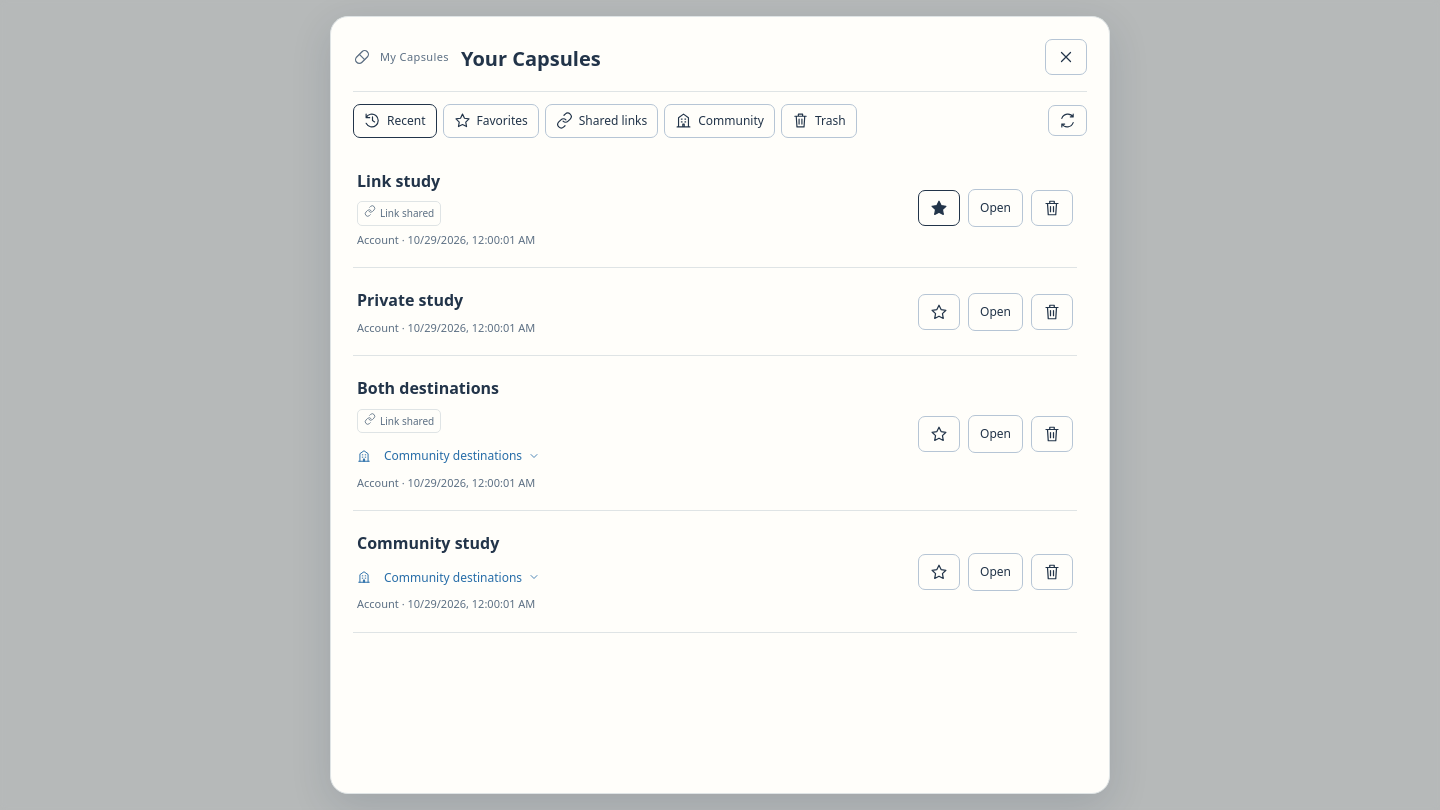
Test: finds favorite, link-shared and community-listed Capsules independently without exposing link capabilities
This screenshot has width=1440, height=810.
Expected: the heading "Both destinations" is shown, [357, 377, 499, 399]
Expected: the text "Link shared" below "Link study" is shown, [380, 206, 434, 220]
Click the button "Shared links": (601, 121) [545, 104, 658, 138]
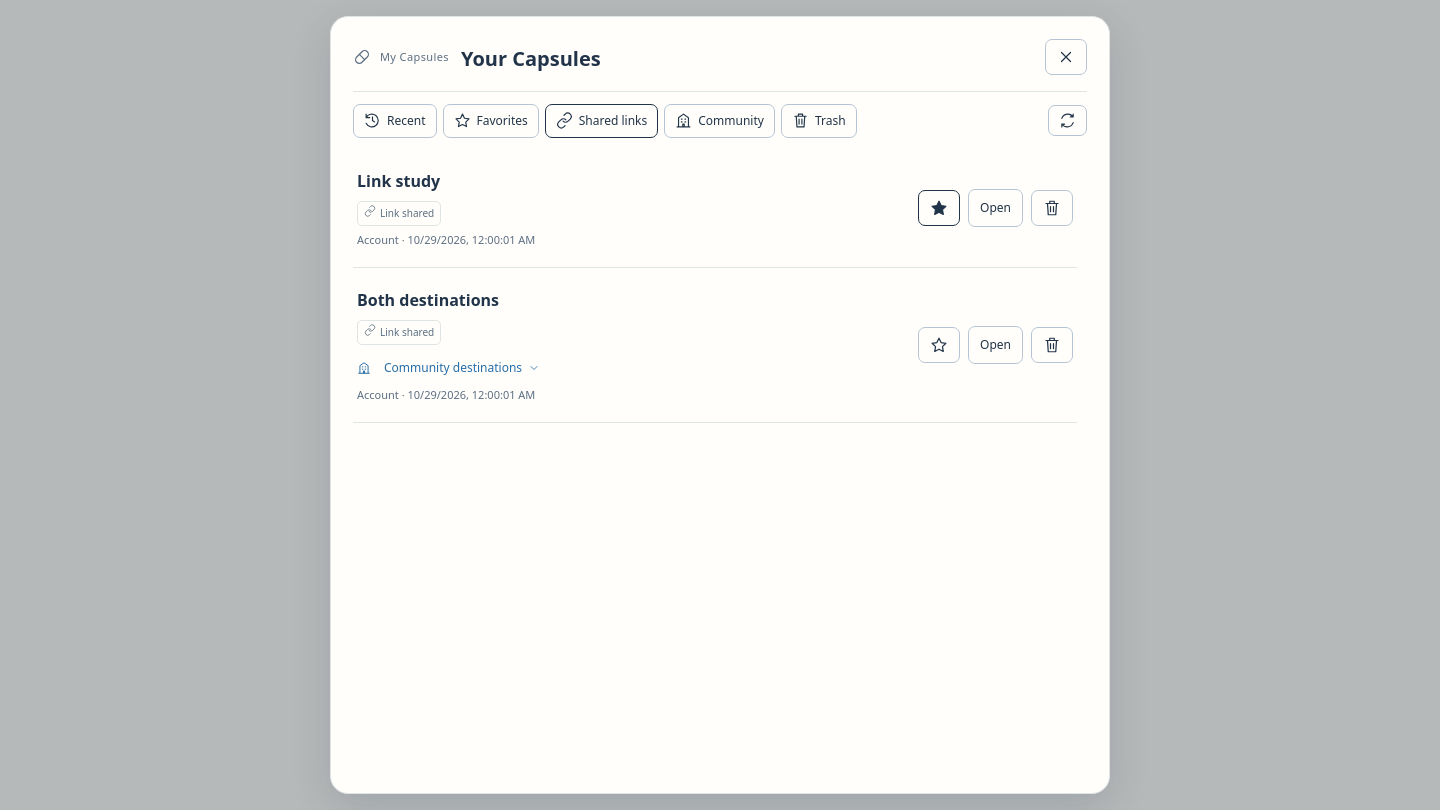
Expected: the number of list items is 2, [353, 150, 1077, 268]; [353, 269, 1077, 423]
Expected: the heading "Community study" is gone
Click the button "Community": (720, 121) [664, 104, 775, 138]
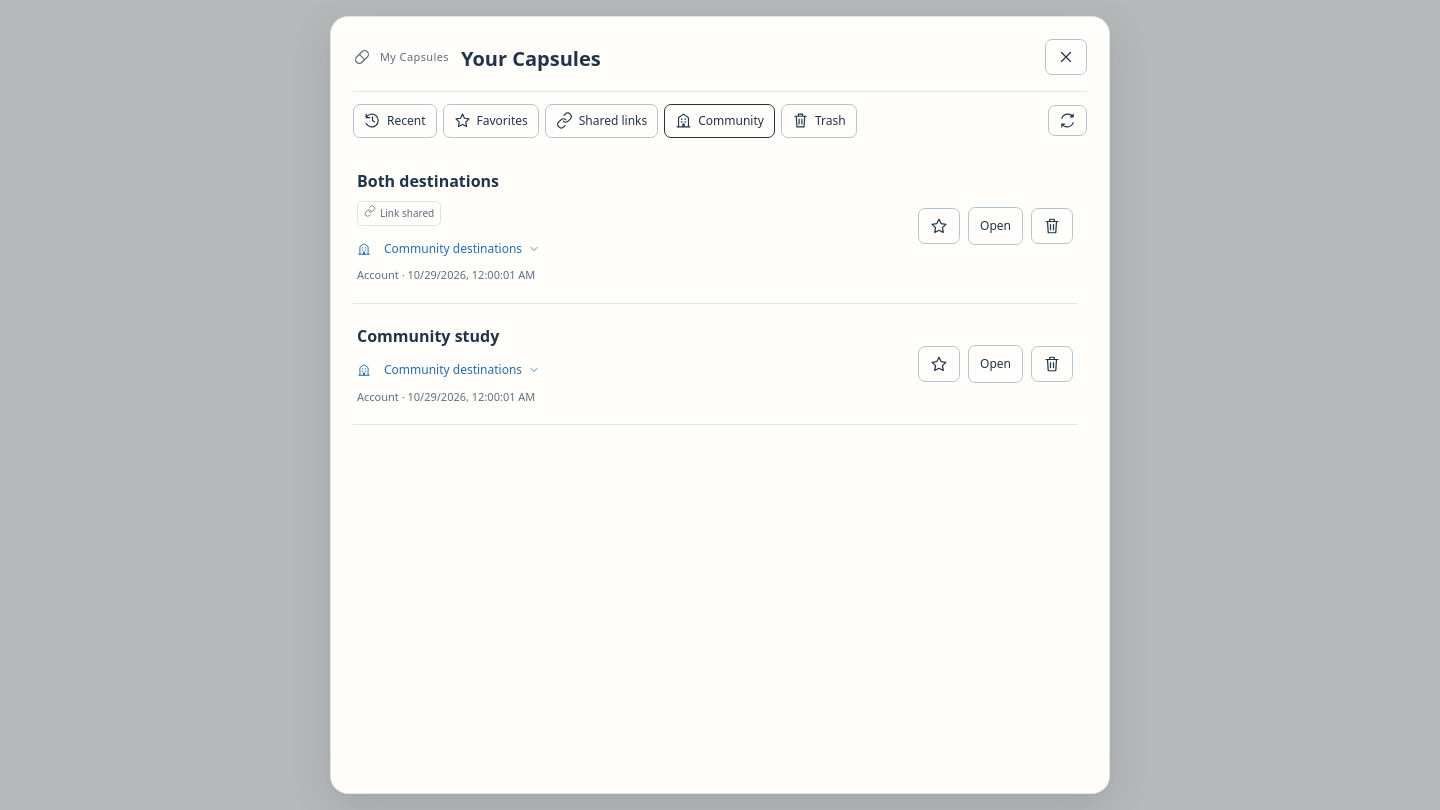
Expected: the number of list items is 2, [353, 150, 1077, 304]; [353, 305, 1077, 425]
Expected: the heading "Link study" is gone
Click the button "Favorites": (491, 121) [442, 104, 539, 138]
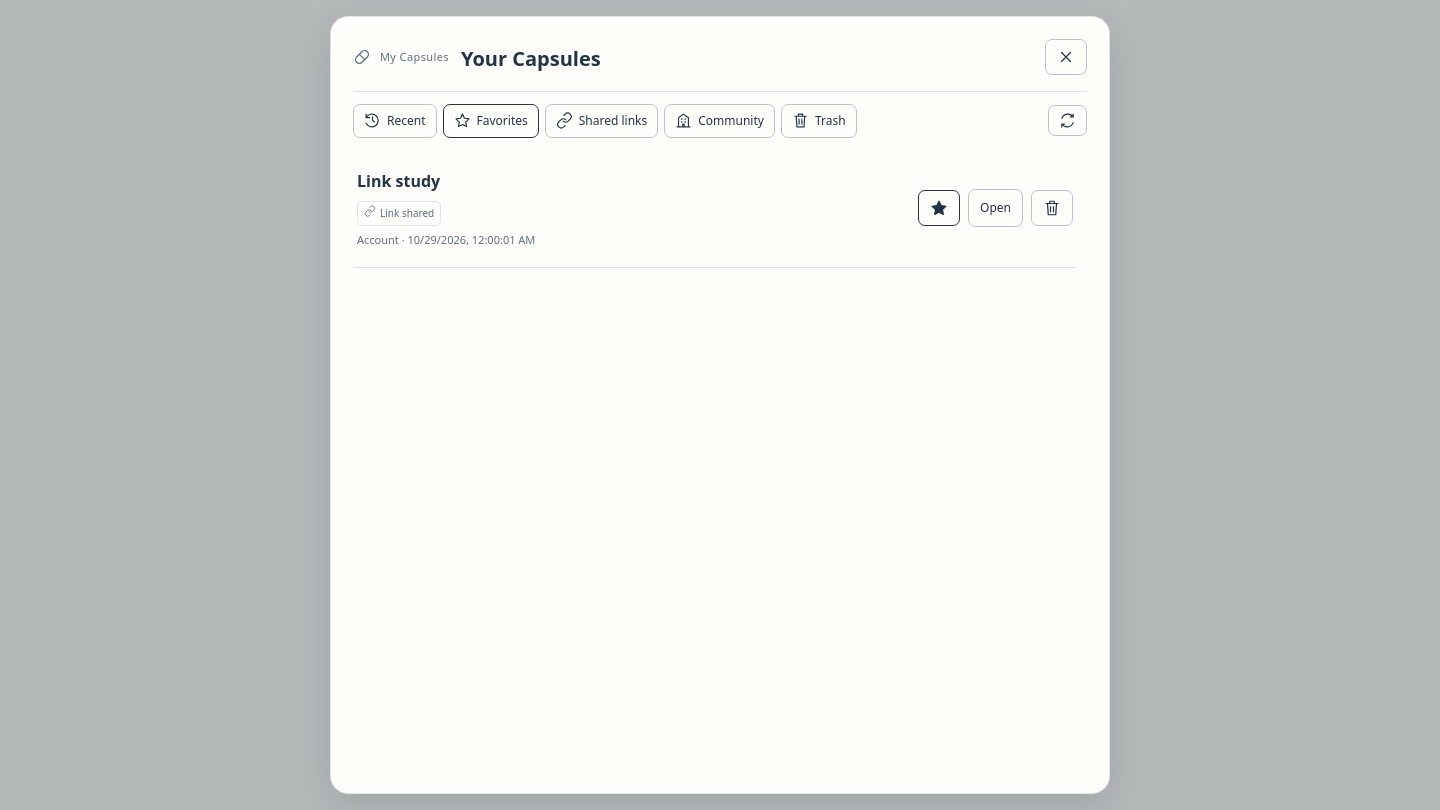
Expected: the number of list items is 1, [353, 150, 1077, 268]
Expected: the heading "Link study" is shown, [357, 170, 440, 192]
Click the button "Recent": (395, 121) [353, 104, 436, 138]
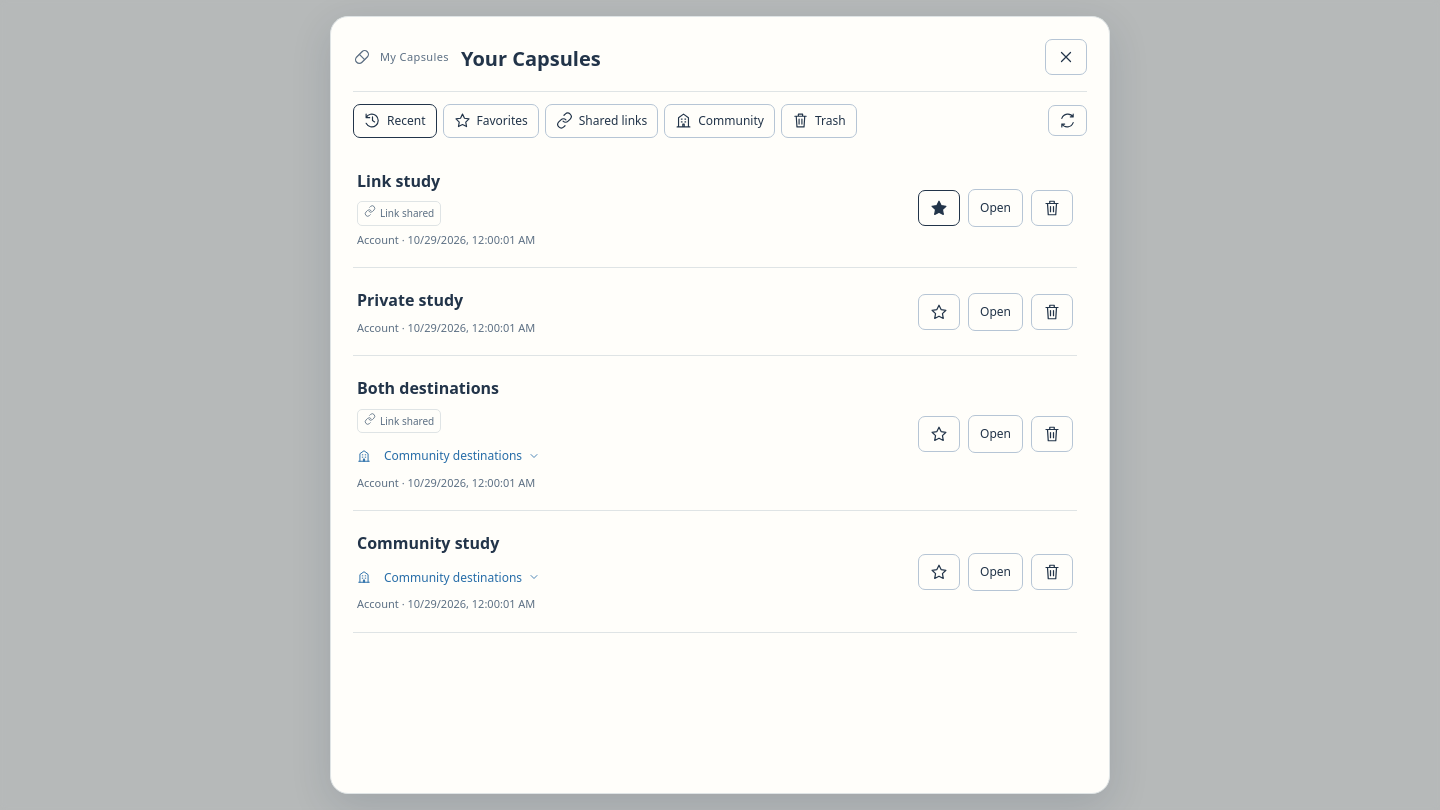
Expected: the number of list items is 4, [353, 150, 1077, 268]; [353, 269, 1077, 356]; [353, 357, 1077, 511]; [353, 512, 1077, 632]
